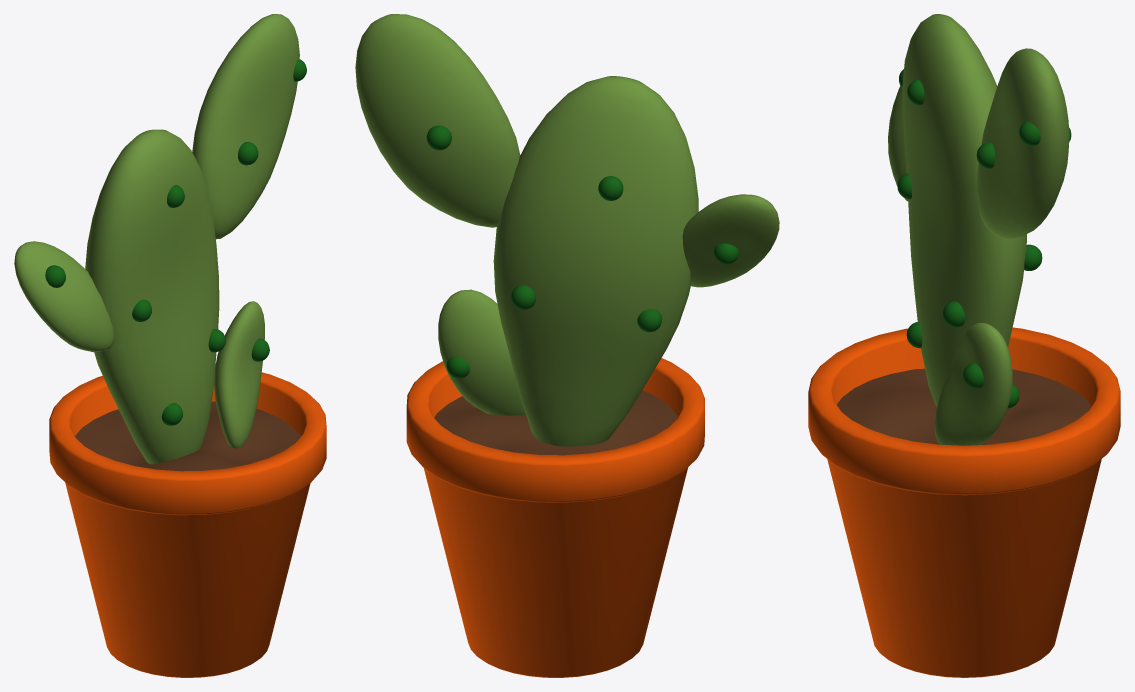
The model's file is Cactus.fbx.
3 views of the same model, side by side, from view 1: azimuth 30°, elevation 25°; view 2: azimuth 150°, elevation 25°; view 3: azimuth 270°, elevation 25° (orthographic). The views are drawn at different scales.
Parts seen in each view (by area): view 1: Cactus; view 2: Cactus; view 3: Cactus.
Part boxes in pixels (x1,y1,x2,y2): Cactus: (14, 14, 326, 677); Cactus: (355, 14, 779, 677); Cactus: (808, 14, 1120, 677).
Bounding box in the file's own units: 30.95 × 50.92 × 22.2.
